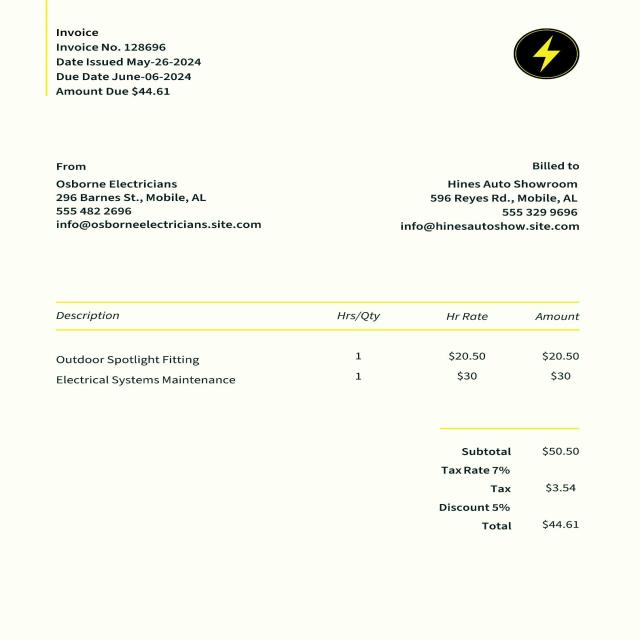paragraph: (53, 158, 265, 235), (432, 444, 605, 536), (399, 152, 581, 234), (55, 29, 210, 103)
table: (46, 300, 591, 404)
